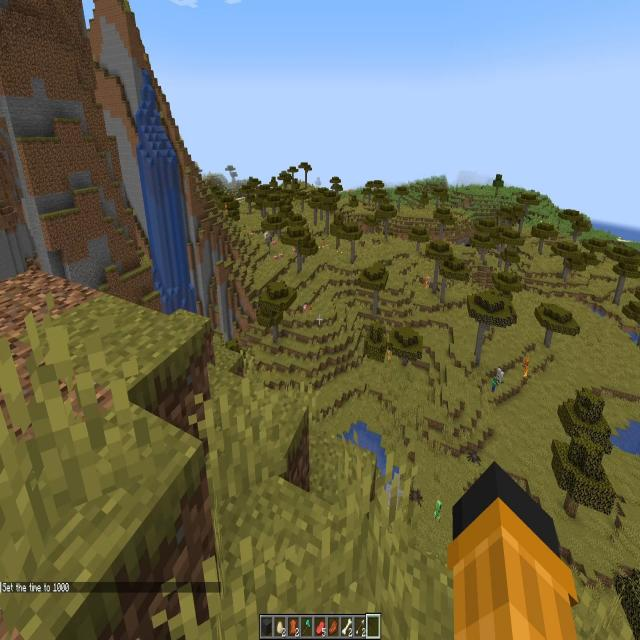Creeper: (435, 502, 441, 520)
Pig: (302, 305, 306, 312), (280, 252, 283, 259), (272, 241, 276, 246), (274, 256, 278, 260), (292, 249, 295, 252)
Sheep: (265, 232, 267, 238)
Skeleton: (500, 372, 505, 387), (496, 369, 501, 382), (427, 277, 430, 289)
Spider: (410, 486, 422, 506), (468, 446, 481, 464), (436, 285, 440, 292)
Zombie: (524, 359, 529, 378), (492, 379, 497, 392), (387, 349, 391, 362), (309, 304, 313, 316), (225, 207, 229, 213)
